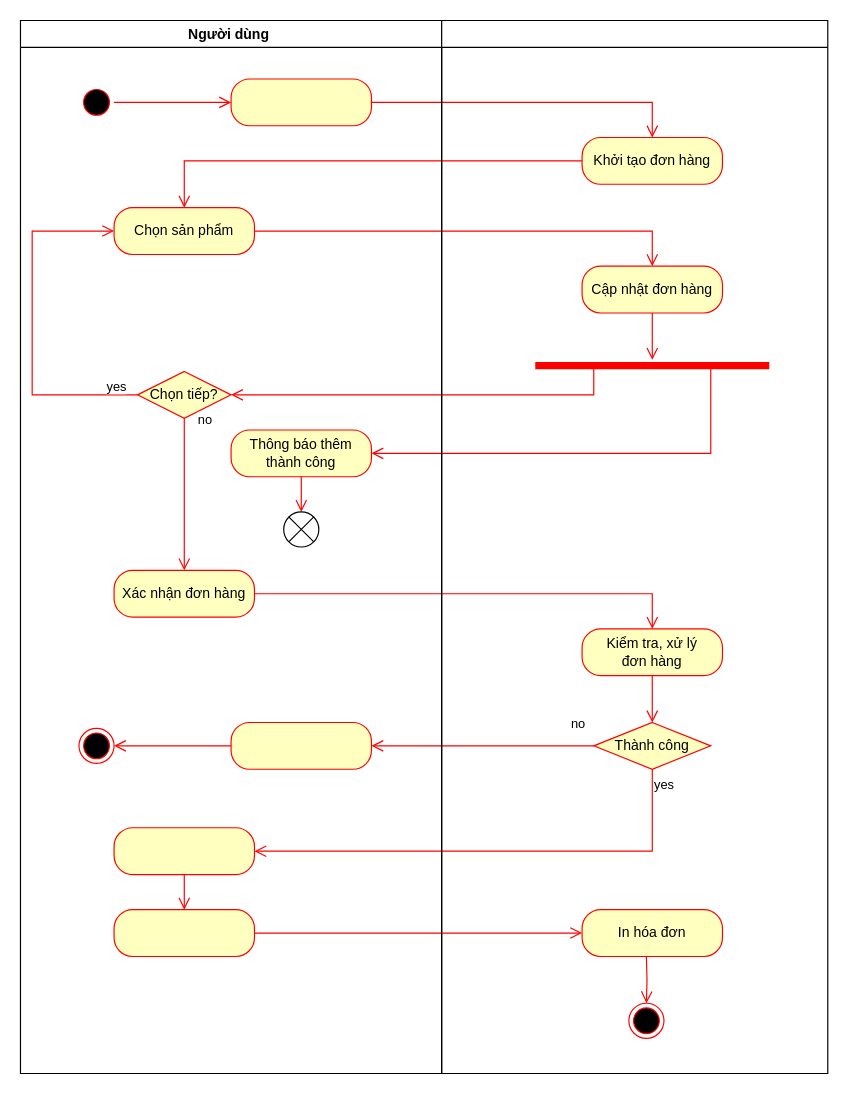
The diagram is 848 pixels wide and 1094 high, and some of its shapes have lost their labels. The centre of each missing label's shape, as x and y in pixels:
Chọn chức năng bán hàng: pixel 300 102
Chọn In hóa đơn: pixel 183 932
Hệ thống: pixel 634 546
Thông báo không thành công: pixel 300 745
Thông báo tạo đơn thành công: pixel 183 851
